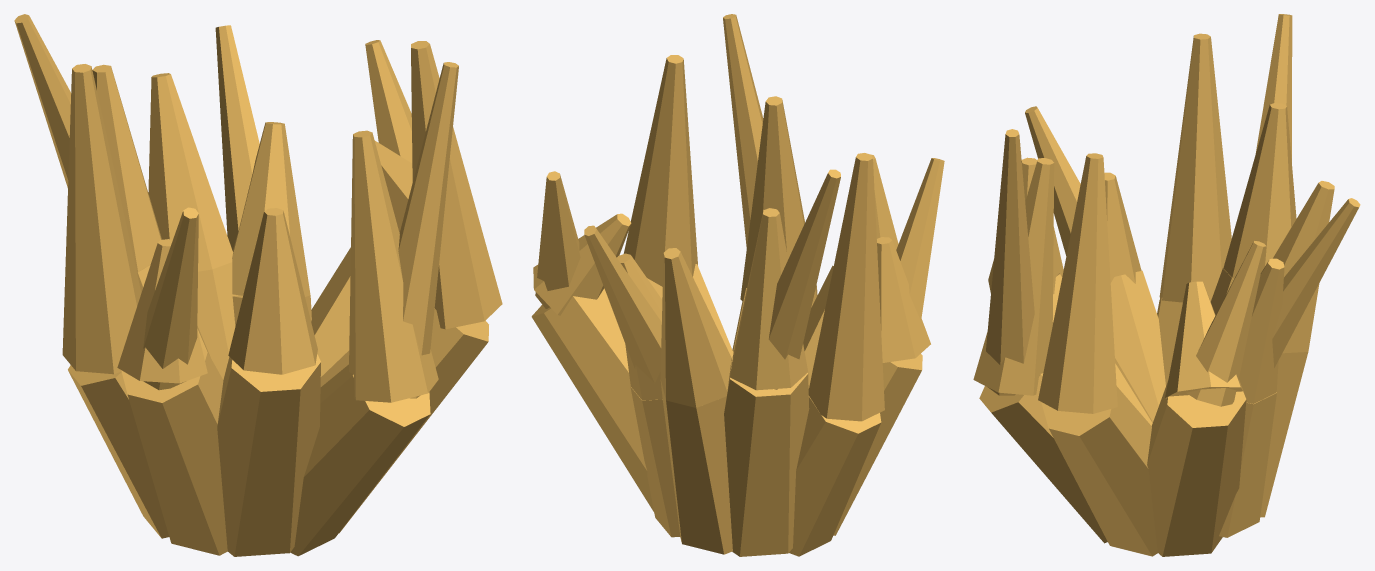
File: coral_crown.glb
3 views of the same model, side by side, from view 1: azimuth 30°, elevation 25°; view 2: azimuth 150°, elevation 25°; view 3: azimuth 270°, elevation 25° (orthographic). The views are drawn at different scales.
Visible parts, largest first — view 1: CORAL_CROWN; view 2: CORAL_CROWN; view 3: CORAL_CROWN.
Boxes of the visible parts, bbox=[...] form: CORAL_CROWN: bbox=[14, 14, 502, 556]; CORAL_CROWN: bbox=[531, 14, 944, 556]; CORAL_CROWN: bbox=[973, 14, 1360, 556].
Size of the model in its own units: 1.12 by 1.36 by 1.08.
